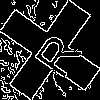R: (25, 25, 83, 81)
